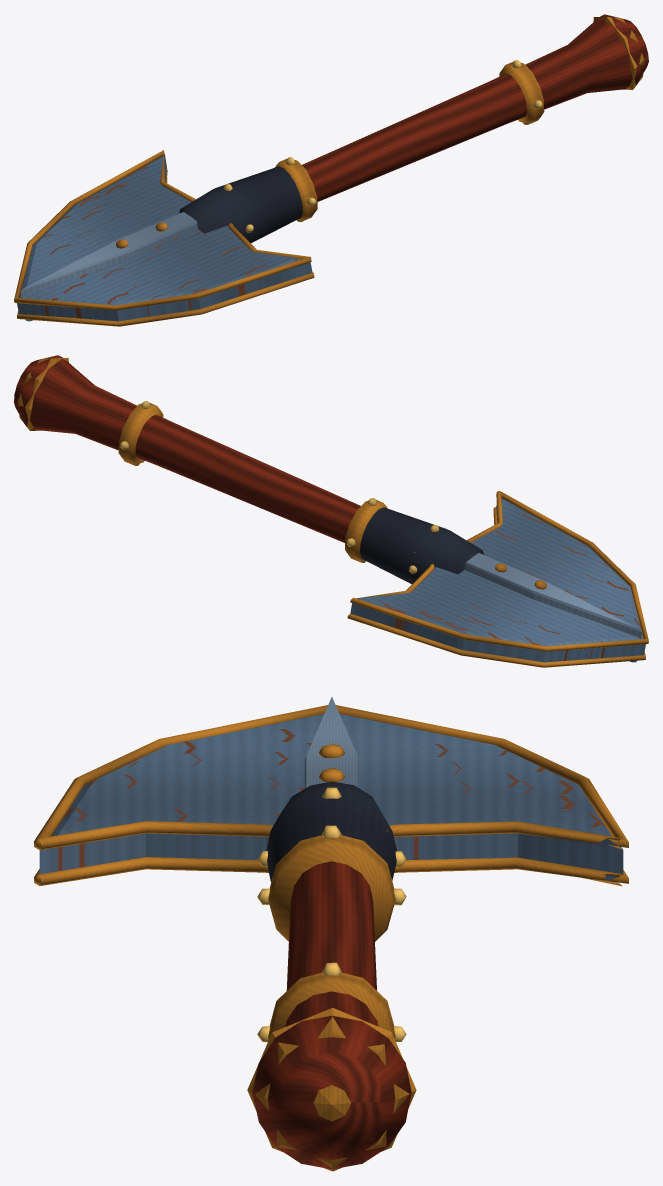
File: shovel.glb
The picture shows the model from 3 angles, top to bottom: view 1: azimuth 30°, elevation 25°; view 2: azimuth 150°, elevation 25°; view 3: azimuth 270°, elevation 25°; orthographic projection. The views are drawn at different scales.
Visible parts, largest first — view 1: Original spade silhouette, Wood shaft, Bronze blade edge (×2), Steel neck, Raised central reinforcing rib, Bronze collar (×2), Octagonal end cap; view 2: Original spade silhouette, Wood shaft, Bronze blade edge (×2), Steel neck, Raised central reinforcing rib, Bronze collar (×2), Octagonal end cap; view 3: Original spade silhouette, Wood shaft, Bronze blade edge (×2), Bronze collar (×2), Steel neck, Octagonal end cap, Raised central reinforcing rib.
Boxes of the visible parts, <box> form: Original spade silhouette: <box>17,155,312,321</box>; Wood shaft: <box>302,14,648,201</box>; Bronze blade edge (×2): <box>14,150,314,326</box>; Steel neck: <box>179,166,302,243</box>; Raised central reinforcing rib: <box>20,212,197,297</box>; Bronze collar (×2): <box>275,61,544,220</box>; Octagonal end cap: <box>593,17,644,89</box>; Original spade silhouette: <box>350,498,645,662</box>; Wood shaft: <box>14,355,360,542</box>; Bronze blade edge (×2): <box>347,491,648,667</box>; Steel neck: <box>360,507,483,584</box>; Raised central reinforcing rib: <box>464,553,641,638</box>; Bronze collar (×2): <box>118,402,387,561</box>; Octagonal end cap: <box>18,357,68,430</box>; Original spade silhouette: <box>39,714,623,880</box>; Wood shaft: <box>252,861,411,1169</box>; Bronze blade edge (×2): <box>34,705,628,886</box>; Bronze collar (×2): <box>268,835,395,1039</box>; Steel neck: <box>266,781,396,882</box>; Octagonal end cap: <box>247,1008,416,1171</box>; Raised central reinforcing rib: <box>304,697,358,788</box>.
Bounding box in the file's own units: 1087 × 272 × 448.
6 materials, 6 textured.
